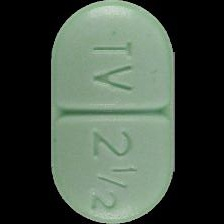61786-626: (0, 0, 224, 224)
